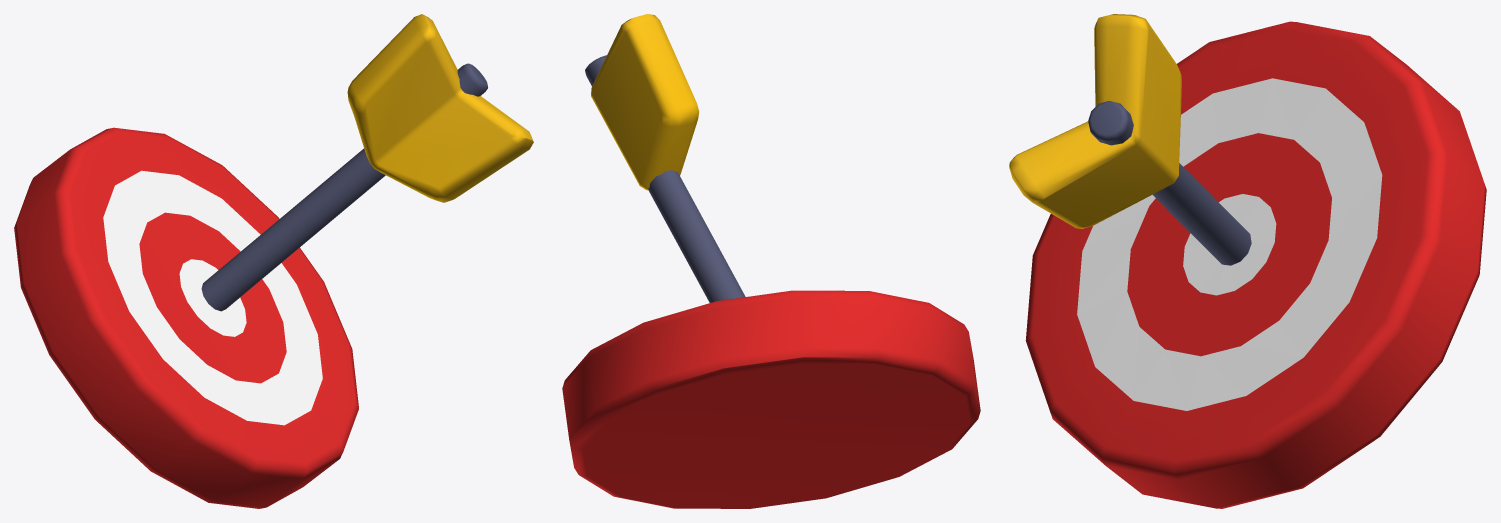
3 renders of one model, left to right at view 1: azimuth 30°, elevation 25°; view 2: azimuth 150°, elevation 25°; view 3: azimuth 270°, elevation 25°, orthographic. The views are drawn at different scales.
Visible parts, largest first — view 1: model_0.021; view 2: model_0.021; view 3: model_0.021.
Part boxes in pixels (x1,y1,x2,y2): model_0.021: (14,14,533,508); model_0.021: (562,14,980,508); model_0.021: (1009,14,1486,508).
Size of the model in its own units: 4.42 by 4.47 by 3.5.
